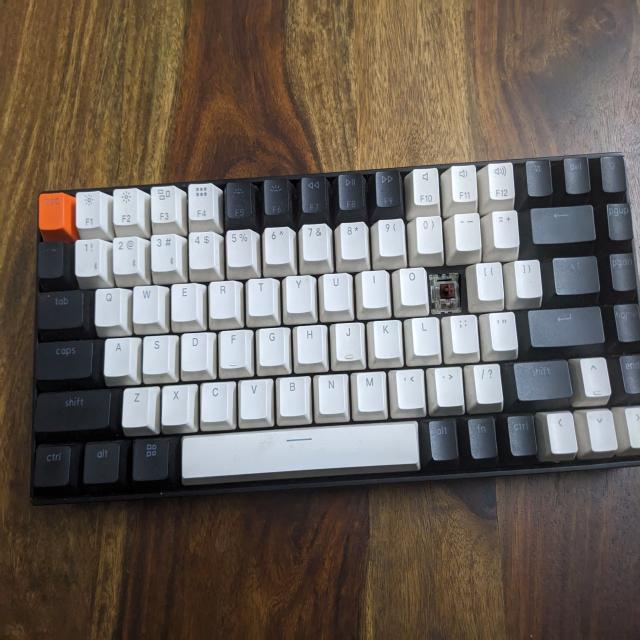C: (432, 274, 461, 310)
